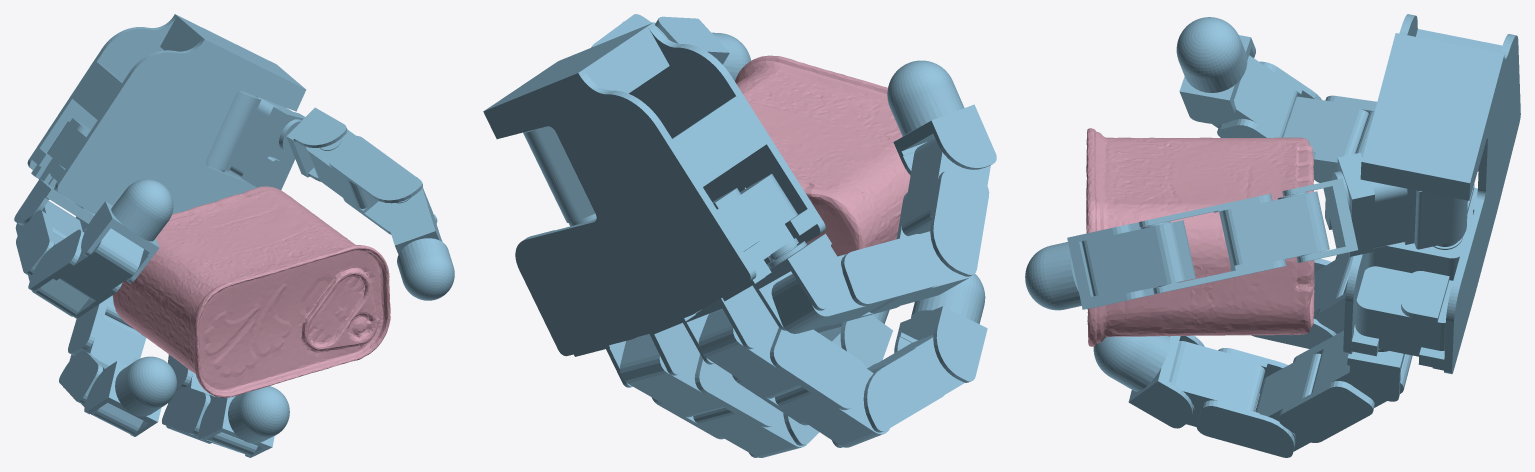
The picture shows the model from 3 angles, left to right: view 1: azimuth 30°, elevation 25°; view 2: azimuth 150°, elevation 25°; view 3: azimuth 270°, elevation 25°; orthographic projection. The views are drawn at different scales.
Parts seen in each view (by area): view 1: world, potted_meat_can.stl; view 2: world, potted_meat_can.stl; view 3: world, potted_meat_can.stl.
Boxes of the visible parts, x1,y1,x2,y2 form: world: (14,14,454,457); potted_meat_can.stl: (112,186,390,397); world: (483,14,996,457); potted_meat_can.stl: (735,55,910,256); world: (1025,14,1520,457); potted_meat_can.stl: (1086,128,1314,346).
Size of the model in its own units: 0.1826 by 0.1804 by 0.1813.
